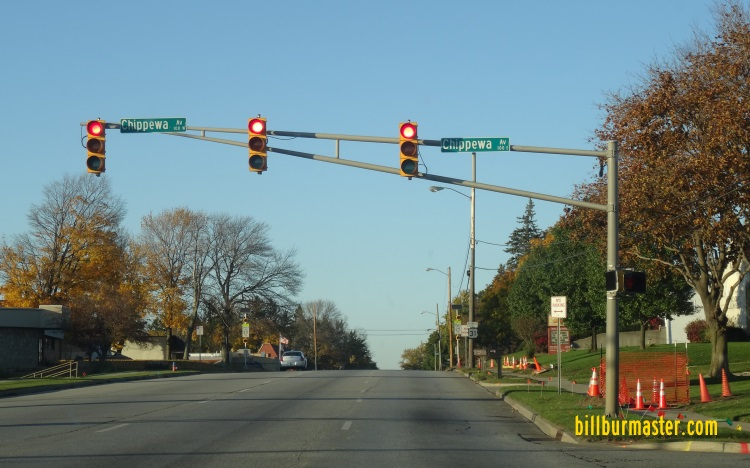red: (398, 121, 418, 178), (85, 121, 106, 175), (248, 117, 268, 173)
